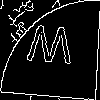W: (25, 24, 74, 75)
